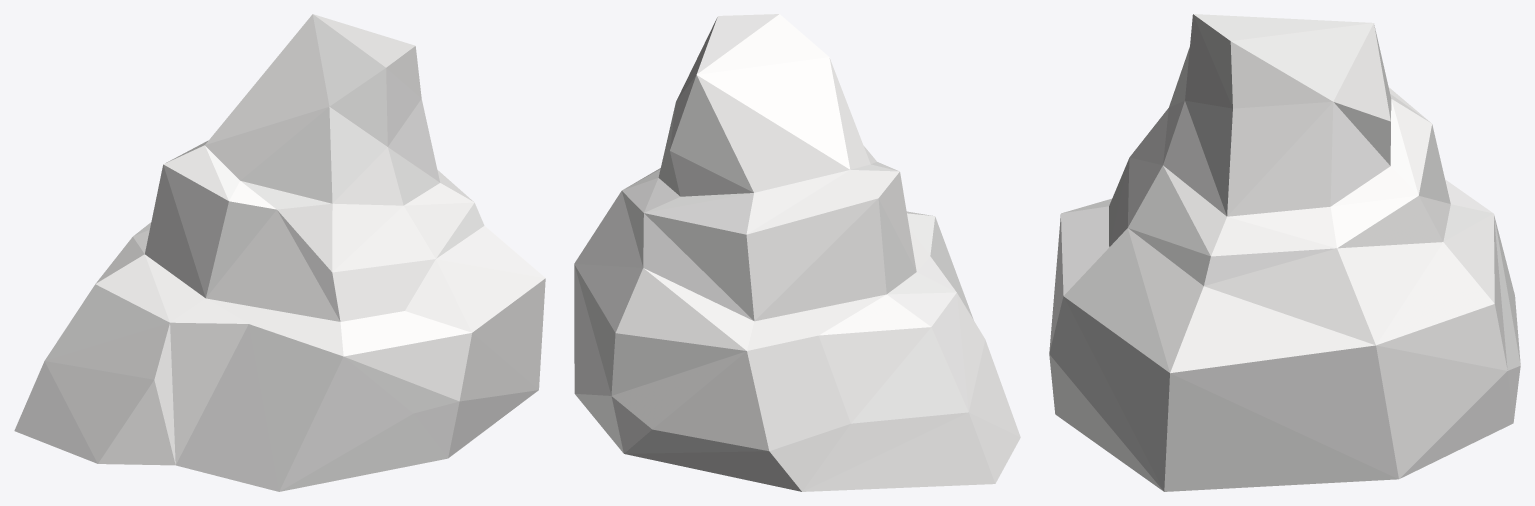
The model's file is Cliff.fbx.
3 renders of one model, left to right at view 1: azimuth 30°, elevation 25°; view 2: azimuth 150°, elevation 25°; view 3: azimuth 270°, elevation 25°, orthographic. The views are drawn at different scales.
Visible parts, largest first — view 1: Cliff; view 2: Cliff; view 3: Cliff.
Boxes of the visible parts, x1=… form: Cliff: x1=14, y1=14, x2=545, y2=491; Cliff: x1=574, y1=14, x2=1020, y2=491; Cliff: x1=1049, y1=14, x2=1520, y2=491.
Size of the model in its own units: 2672 by 1995 by 2135.
